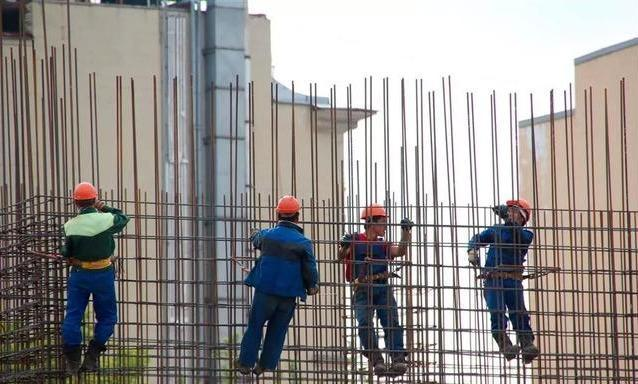helmet: (500, 195, 534, 229), (358, 202, 391, 237), (271, 191, 303, 227), (68, 178, 99, 214)
